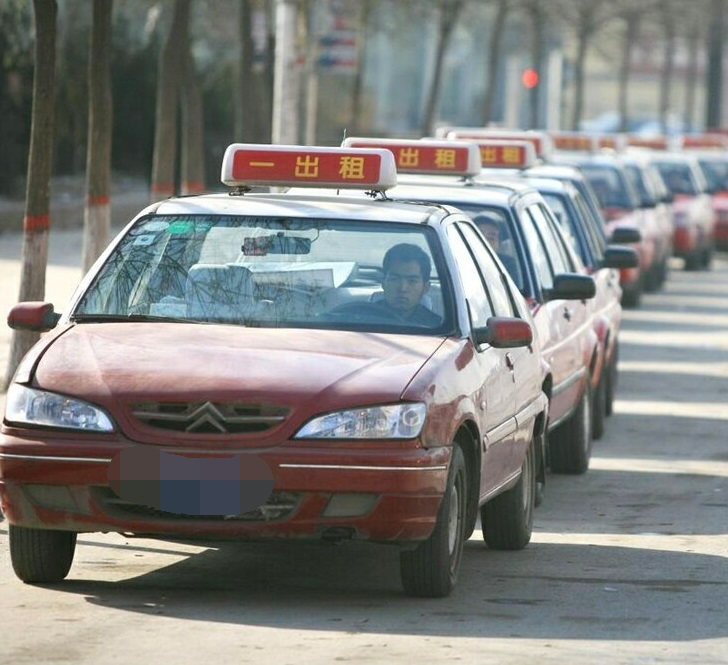taxi: (5, 141, 558, 600)
